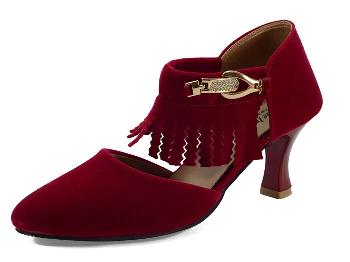Footwear: (10, 18, 330, 244)
